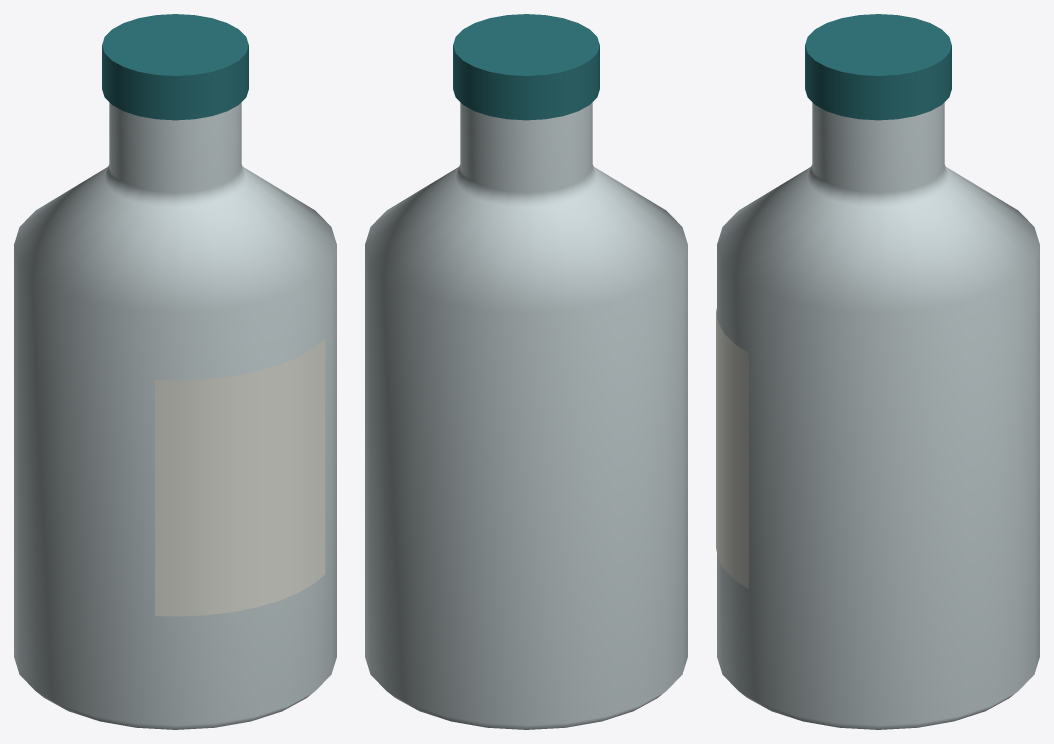
Rendered from VLAB_reagent_bottle.fbx.
3 views of the same model, side by side, from view 1: azimuth 30°, elevation 25°; view 2: azimuth 150°, elevation 25°; view 3: azimuth 270°, elevation 25° (orthographic).
Parts seen in each view (by area): view 1: VLAB_reagent_bottle_Body_VIS, VLAB_reagent_bottle_LabelPlane_VIS, VLAB_reagent_bottle_Cap_VIS; view 2: VLAB_reagent_bottle_Body_VIS, VLAB_reagent_bottle_Cap_VIS; view 3: VLAB_reagent_bottle_Body_VIS, VLAB_reagent_bottle_Cap_VIS, VLAB_reagent_bottle_LabelPlane_VIS.
Boxes of the visible parts, x1=… form: VLAB_reagent_bottle_Body_VIS: x1=14, y1=102, x2=336, y2=729; VLAB_reagent_bottle_LabelPlane_VIS: x1=155, y1=339, x2=325, y2=616; VLAB_reagent_bottle_Cap_VIS: x1=102, y1=14, x2=248, y2=120; VLAB_reagent_bottle_Body_VIS: x1=365, y1=102, x2=687, y2=729; VLAB_reagent_bottle_Cap_VIS: x1=453, y1=14, x2=599, y2=120; VLAB_reagent_bottle_Body_VIS: x1=717, y1=102, x2=1039, y2=729; VLAB_reagent_bottle_Cap_VIS: x1=805, y1=14, x2=951, y2=120; VLAB_reagent_bottle_LabelPlane_VIS: x1=716, y1=308, x2=748, y2=588.
Bounding box in the file's own units: 0.066 × 0.14 × 0.0662.
